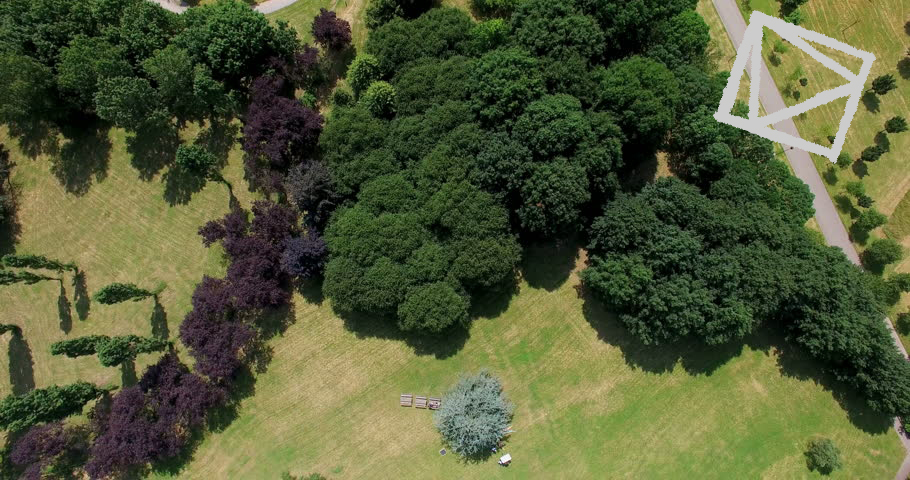marker: (711, 6, 879, 168)
